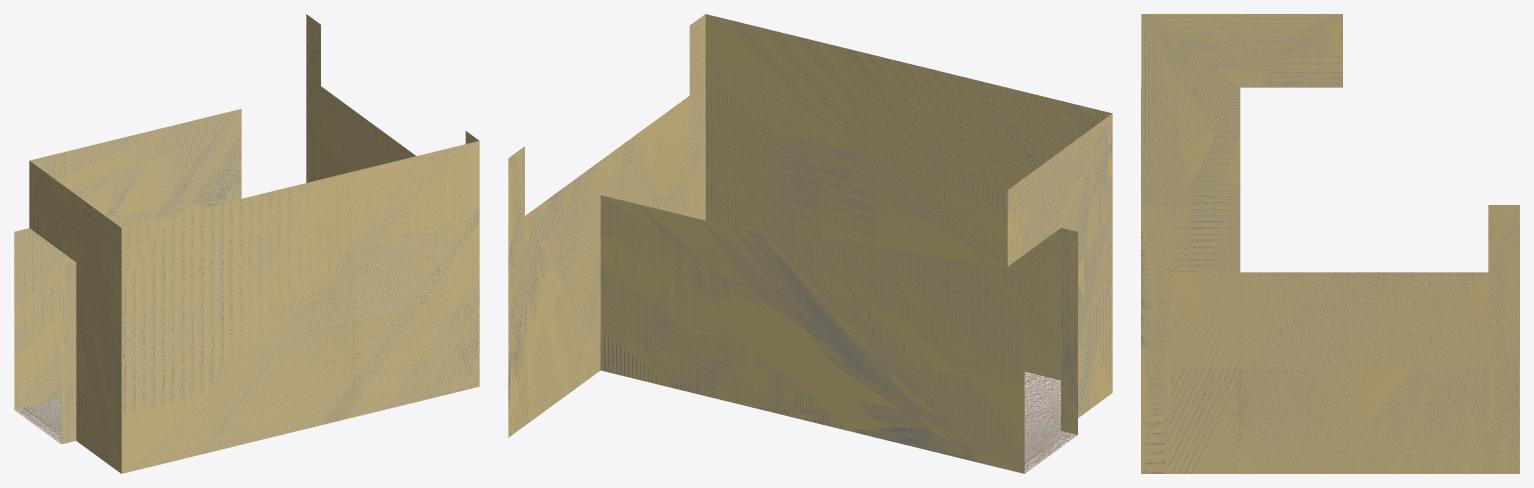
File: CUA004.obj
The picture shows the model from 3 angles, left to right: view 1: azimuth 30°, elevation 25°; view 2: azimuth 150°, elevation 25°; view 3: azimuth 270°, elevation 25°; orthographic projection. The views are drawn at different scales.
Parts seen in each view (by area): view 1: Mesh1 CUA004 Model; view 2: Mesh1 CUA004 Model; view 3: Mesh1 CUA004 Model.
Part boxes in pixels (bbox=[...]): Mesh1 CUA004 Model: bbox=[14, 14, 479, 473]; Mesh1 CUA004 Model: bbox=[508, 14, 1112, 473]; Mesh1 CUA004 Model: bbox=[1141, 14, 1519, 473].
Bounding box in the file's own units: 4.76 × 3 × 3.83.
4 materials, 2 textured.
